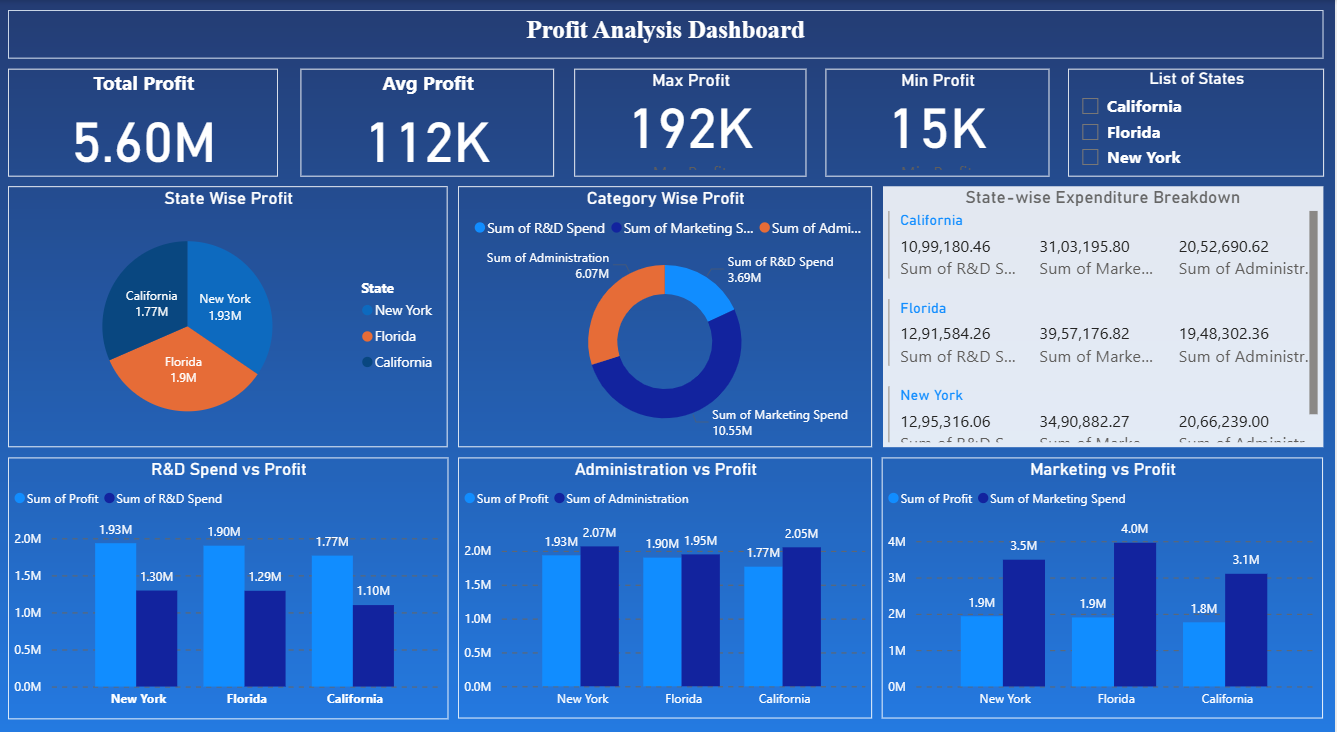

This screenshot's page, from the dashboard's own definition file:
{"tool":"powerbi","page":{"name":"Page 1","canvas":[1300,725],"ordinal":0},"visuals":[{"type":"card","title":"Total Profit","fields":{"Values":["Sheet1.Total Profit"]},"box":[9.7,66.8,262.4,104.5],"z":0},{"type":"textbox","box":[10,10,1278.6,47.1],"z":1000},{"type":"card","title":"Avg Profit","fields":{"Values":["Sheet1.Avg Profit"]},"box":[294,66.8,246.6,104.5],"z":2000},{"type":"pieChart","title":"State Wise Profit","fields":{"Category":["Sheet1.State"],"Y":["Sum(Sheet1.Profit)"]},"box":[10,181.2,427.5,253.8],"z":3000},{"type":"donutChart","title":"Category Wise Profit","fields":{"Y":["Sum(Sheet1.R&D Spend)","Sum(Sheet1.Marketing Spend)","Sum(Sheet1.Administration)"]},"box":[447.4,181.2,402.8,253.6],"z":4000},{"type":"slicer","title":"List of States","fields":{"Values":["Sheet1.State"]},"box":[1040,66.2,248.8,105],"z":5000},{"type":"clusteredColumnChart","title":"R&D Spend vs Profit","fields":{"Y":["Sum(Sheet1.Profit)","Sum(Sheet1.R&D Spend)"],"Category":["Sheet1.State"]},"box":[10,445,428,254],"z":6000},{"type":"clusteredColumnChart","title":"Marketing vs Profit","fields":{"Y":["Sum(Sheet1.Profit)","Sum(Sheet1.Marketing Spend)"],"Category":["Sheet1.State"]},"box":[858.9,444.6,428.8,253.9],"z":7000},{"type":"clusteredColumnChart","title":"Administration vs Profit","fields":{"Y":["Sum(Sheet1.Profit)","Sum(Sheet1.Administration)","Sum(Sheet1.Administration)"],"Category":["Sheet1.State"]},"box":[447.5,445,402.5,253.8],"z":8000},{"type":"card","title":"Max Profit","fields":{"Values":["Sheet1.Max Profit"]},"box":[560,66.8,226,104.5],"z":9000},{"type":"card","title":"Min Profit","fields":{"Values":["Sheet1.Min Profit"]},"box":[804.2,66.8,217.5,104.5],"z":10000},{"type":"multiRowCard","title":"State-wise Expenditure Breakdown","fields":{"Values":["Sheet1.State","Sum(Sheet1.R&D Spend)","Sum(Sheet1.Marketing Spend)","Sum(Sheet1.Administration)"]},"box":[860.1,181,427.6,253.9],"z":11000}]}

Visuals, with their boxes in screenshot pixels (x1, y1, x2, y2), scaled from the page's 1300x725 canvas onto the 1337x732 screenshot:
"Total Profit" card: bbox(10, 67, 280, 173)
textbox: bbox(10, 10, 1325, 58)
"Avg Profit" card: bbox(302, 67, 556, 173)
"State Wise Profit" pieChart: bbox(10, 183, 450, 439)
"Category Wise Profit" donutChart: bbox(460, 183, 874, 439)
"List of States" slicer: bbox(1070, 67, 1325, 173)
"R&D Spend vs Profit" clusteredColumnChart: bbox(10, 449, 450, 706)
"Marketing vs Profit" clusteredColumnChart: bbox(883, 449, 1324, 705)
"Administration vs Profit" clusteredColumnChart: bbox(460, 449, 874, 706)
"Max Profit" card: bbox(576, 67, 808, 173)
"Min Profit" card: bbox(827, 67, 1051, 173)
"State-wise Expenditure Breakdown" multiRowCard: bbox(885, 183, 1324, 439)
